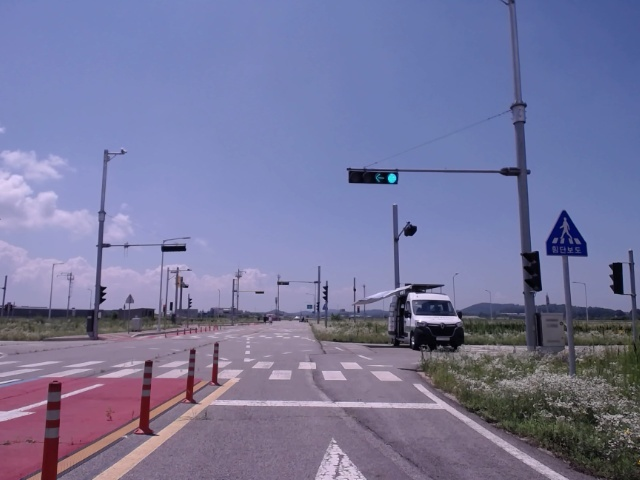all_green_4: (345, 168, 398, 183)
